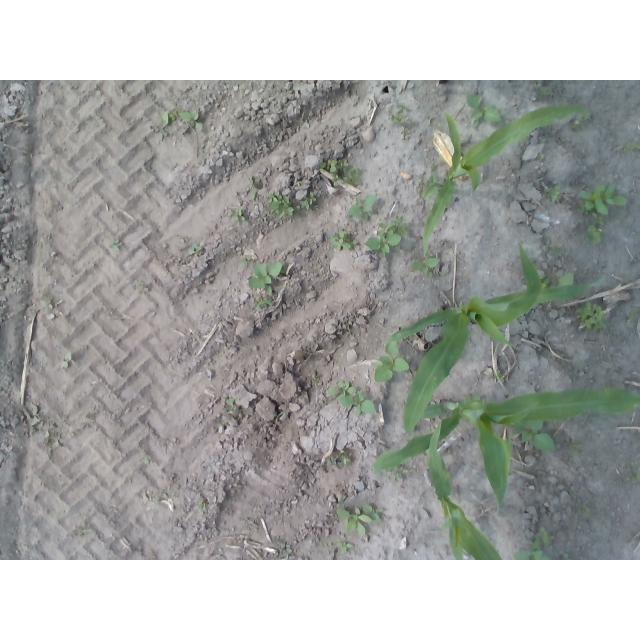Maize: (391, 244, 606, 432), (371, 386, 640, 517), (422, 104, 591, 255), (429, 401, 503, 560)
Weeds: (577, 182, 627, 226), (365, 214, 408, 259), (327, 381, 377, 417), (336, 499, 384, 536), (370, 340, 411, 383), (466, 92, 507, 129), (510, 419, 555, 452), (248, 261, 287, 295), (319, 159, 363, 186), (264, 191, 300, 218), (575, 301, 606, 331), (389, 104, 415, 137), (410, 250, 439, 279), (347, 193, 378, 220), (329, 230, 359, 251), (417, 175, 443, 199), (180, 108, 205, 132), (159, 109, 178, 139), (530, 527, 553, 550), (297, 190, 319, 213), (512, 548, 553, 560), (23, 404, 40, 432), (384, 464, 409, 483), (326, 449, 351, 467), (537, 269, 556, 290), (545, 182, 564, 202), (582, 225, 603, 243), (615, 139, 640, 152), (220, 397, 237, 416), (230, 206, 246, 223), (569, 116, 586, 132), (248, 175, 258, 201), (537, 85, 554, 100), (336, 541, 354, 555), (253, 297, 272, 310), (558, 272, 575, 285), (568, 442, 585, 455), (493, 369, 507, 384), (462, 393, 483, 403), (61, 352, 73, 369), (627, 470, 640, 485), (187, 243, 203, 255), (626, 309, 639, 323), (110, 239, 123, 252), (75, 526, 89, 538), (141, 451, 152, 465), (581, 506, 592, 519), (598, 380, 612, 390), (155, 494, 170, 503), (199, 498, 208, 512), (40, 301, 54, 310), (241, 254, 251, 266), (274, 540, 287, 549), (548, 245, 560, 254), (555, 350, 566, 359), (312, 373, 320, 385), (538, 154, 547, 162), (430, 162, 439, 170), (561, 554, 572, 560), (296, 182, 302, 187)
